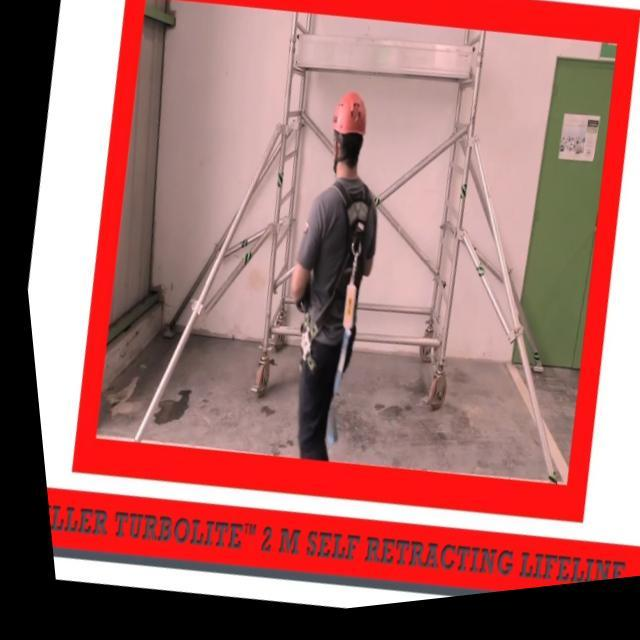belt: (266, 161, 389, 407)
